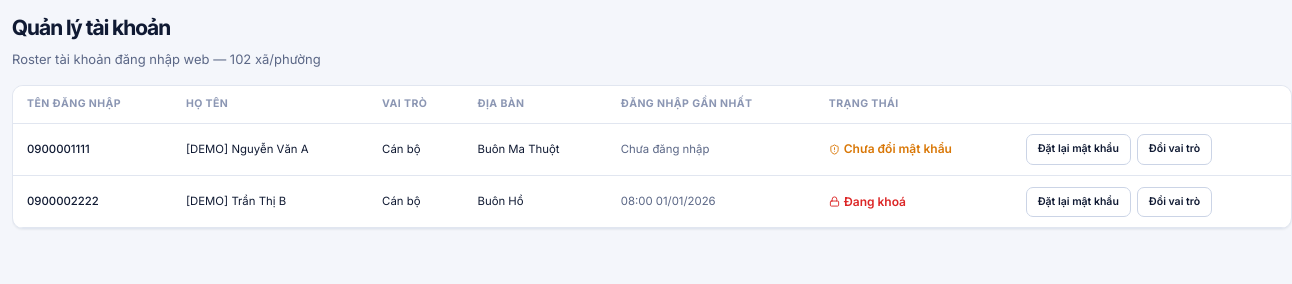
AdminAccountsPage › shows an error message when the reset request fails
Expected: the text "0900001111" is shown, x1=13 y1=124 x2=172 y2=176
Click the button "Đặt lại mật khẩu" in the row of "0900001111" at [1078, 150], box x1=1026 y1=134 x2=1131 y2=165
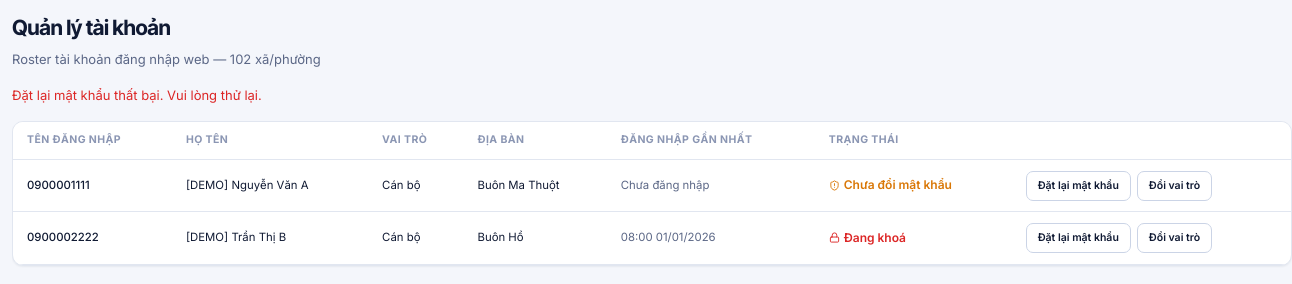
Expected: the text "Đặt lại mật khẩu thất bại. Vui lòng thử lại." is shown, x1=12 y1=87 x2=262 y2=103
